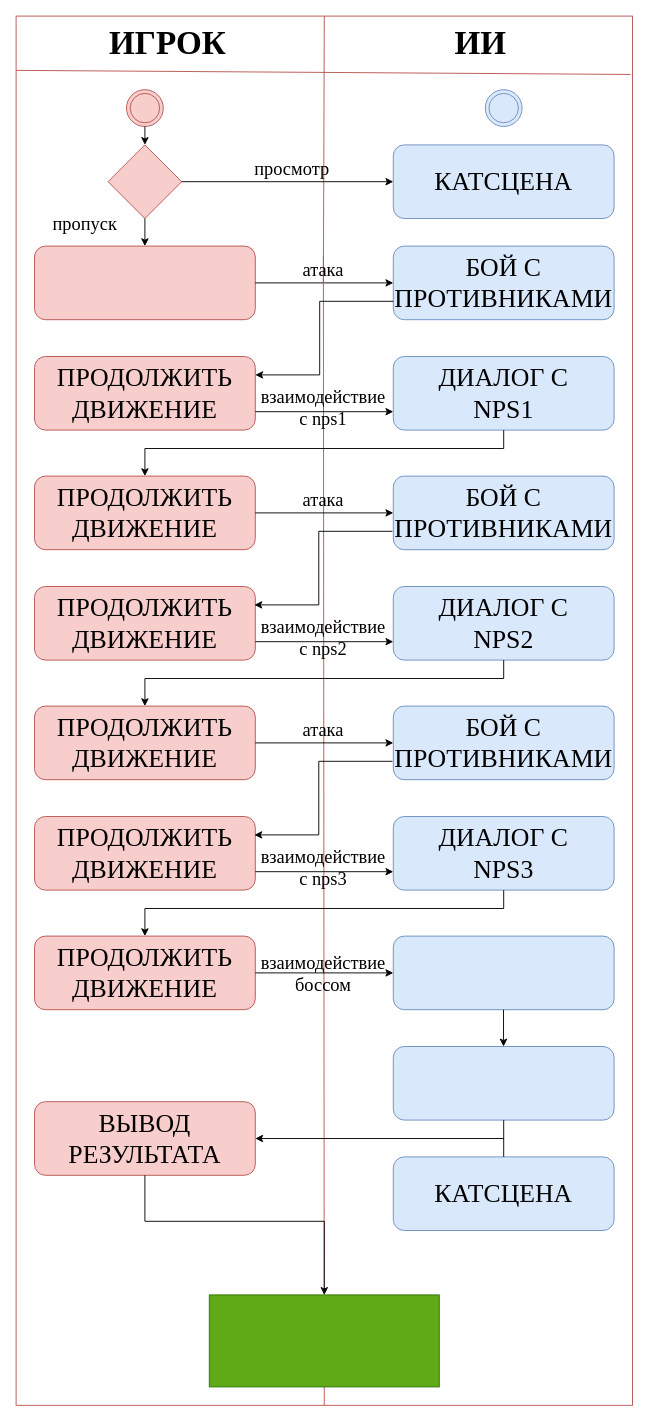
Image size: 649x1422. Some labels were removed from this diagram. Here are the shapes that lost their labels. From the top down, the centre of each, then its label:
At point 144,282: "НАЧАТЬ ДВИЖЕНИЕ".
At point 503,972: "ДИАЛОГ С БОССОМ".
At point 503,1083: "ПОДСЧЁТ БАЛЛОВ".
At point 323,1340: "ЗАКОНЧИТЬ ИГРУ".
